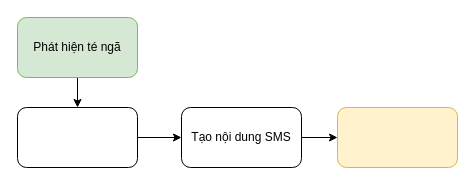
Some shapes in this 475 by 185 pixel diagram are drawn without their labels. Here are the shapes that lost their labels. From the top down, the centre of each, then its label:
At pixel 77 137: "Lấy toạ độ GPS".
At pixel 397 137: "Gửi SMS cảnh báo".
